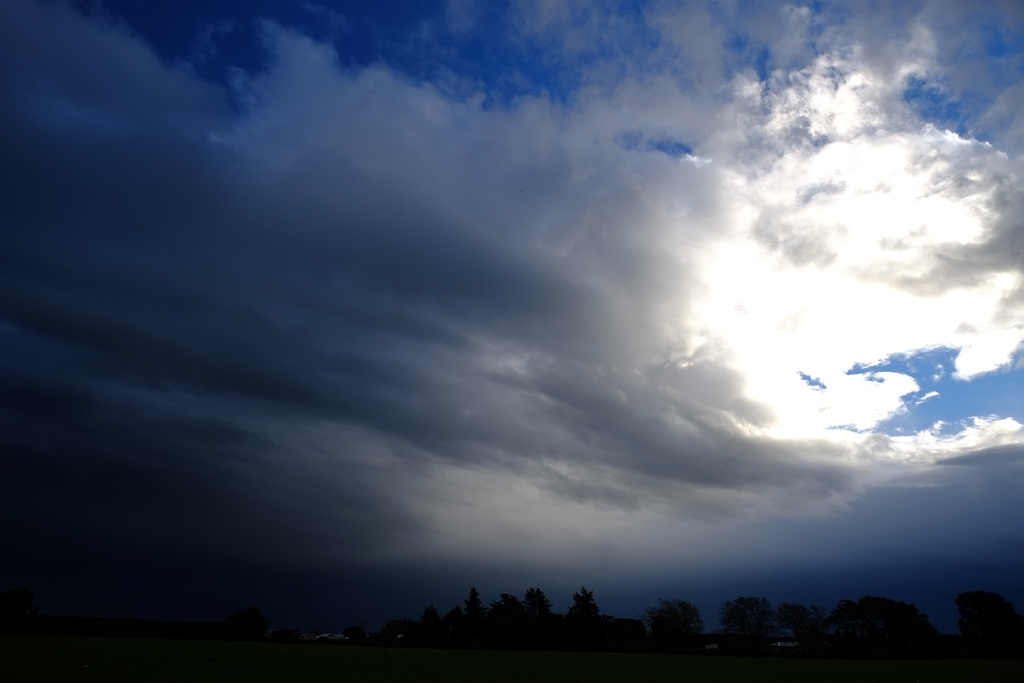Tree: (382, 583, 1023, 681)
